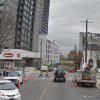Car: (52, 65, 72, 90)
